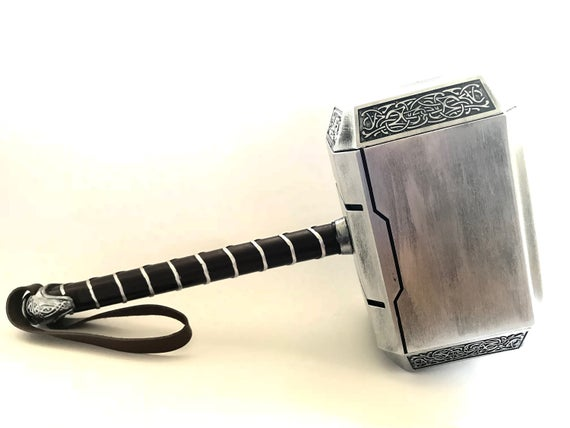THOR Hammer: (26, 72, 545, 373)
